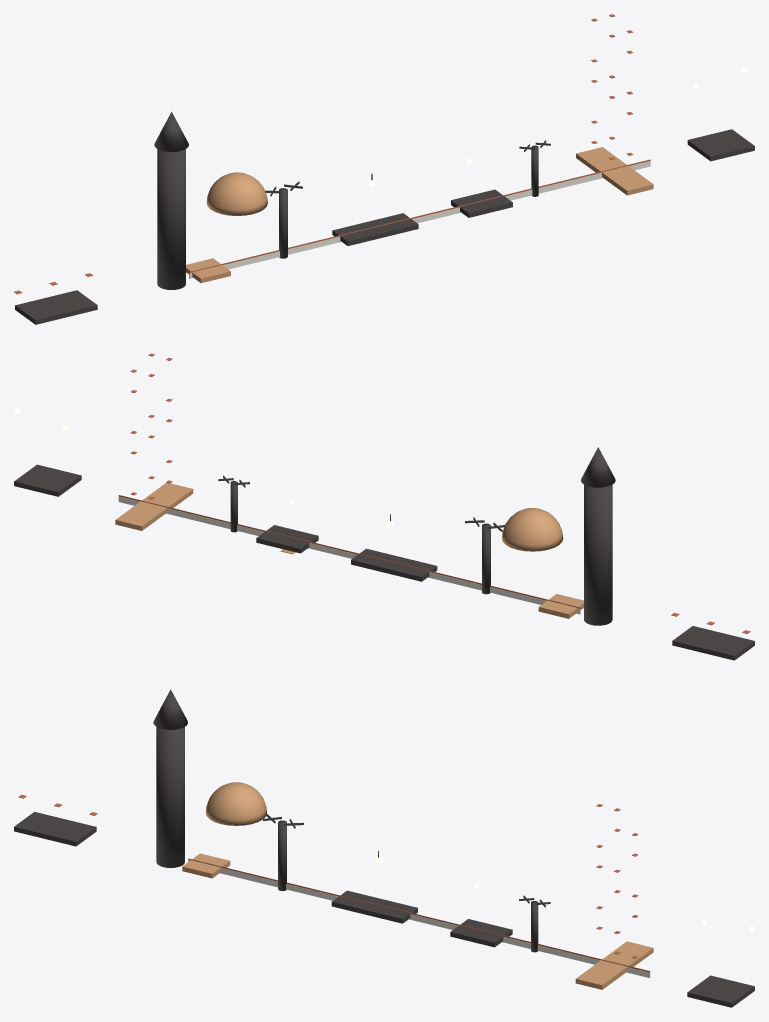
File: fitsole-cairo.glb
3 views of the same model, one above another, from view 1: azimuth 30°, elevation 25°; view 2: azimuth 150°, elevation 25°; view 3: azimuth 330°, elevation 25° (orthographic).
Parts seen in each view (by area): view 1: minaret_shaft, mosque_dome, tower, ground, blockA, blockB, blockD, blockC, horizon, minaret_top, mosque_base, palmA_trunk; view 2: minaret_shaft, mosque_dome, tower, ground, blockA, blockB, blockD, blockC, horizon, minaret_top, mosque_base, palmA_trunk; view 3: minaret_shaft, mosque_dome, ground, tower, blockA, blockB, blockD, blockC, horizon, minaret_top, mosque_base, palmA_trunk.
Boxes of the visible parts, bbox=[...] form: minaret_shaft: bbox=[157, 149, 185, 289]; mosque_dome: bbox=[206, 172, 267, 215]; tower: bbox=[576, 147, 653, 195]; ground: bbox=[189, 161, 650, 278]; blockA: bbox=[15, 290, 97, 324]; blockB: bbox=[332, 213, 418, 245]; blockD: bbox=[687, 129, 754, 161]; blockC: bbox=[451, 189, 512, 217]; horizon: bbox=[189, 159, 650, 273]; minaret_top: bbox=[154, 111, 188, 152]; mosque_base: bbox=[186, 258, 230, 283]; palmA_trunk: bbox=[279, 188, 287, 258]; minaret_shaft: bbox=[584, 484, 612, 625]; mosque_dome: bbox=[502, 508, 563, 551]; tower: bbox=[115, 482, 193, 530]; ground: bbox=[118, 496, 580, 614]; blockA: bbox=[672, 626, 754, 660]; blockB: bbox=[351, 548, 437, 581]; blockD: bbox=[14, 464, 81, 496]; blockC: bbox=[256, 525, 318, 553]; horizon: bbox=[118, 495, 580, 608]; minaret_top: bbox=[581, 447, 615, 487]; mosque_base: bbox=[538, 594, 583, 618]; palmA_trunk: bbox=[482, 523, 490, 594]; minaret_shaft: bbox=[156, 727, 184, 867]; mosque_dome: bbox=[205, 782, 266, 825]; ground: bbox=[188, 860, 650, 977]; tower: bbox=[575, 941, 653, 989]; blockA: bbox=[14, 812, 96, 846]; blockB: bbox=[331, 890, 417, 923]; blockD: bbox=[687, 975, 754, 1007]; blockC: bbox=[450, 919, 512, 947]; horizon: bbox=[188, 858, 650, 972]; minaret_top: bbox=[153, 689, 187, 729]; mosque_base: bbox=[182, 853, 230, 878]; palmA_trunk: bbox=[278, 820, 286, 890].
Size of the model in its own units: 41.3 by 9.3 by 5.
